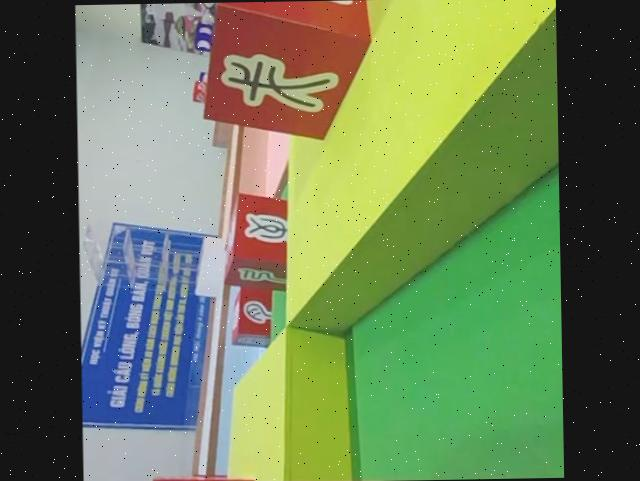R2 Fake: (197, 0, 380, 144), (226, 190, 298, 293), (230, 283, 281, 351)
